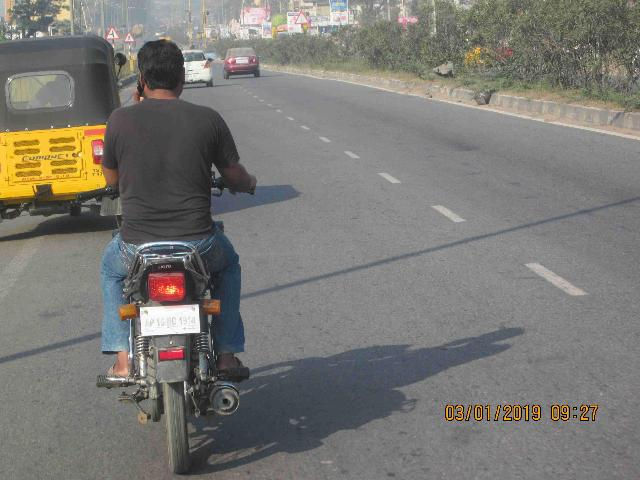motor: (99, 241, 244, 475)
non-helm: (139, 41, 186, 100)
